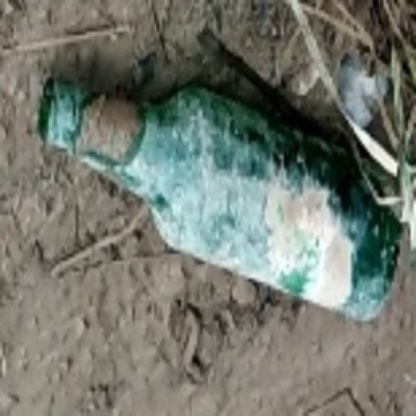bottle: (42, 71, 401, 326)
